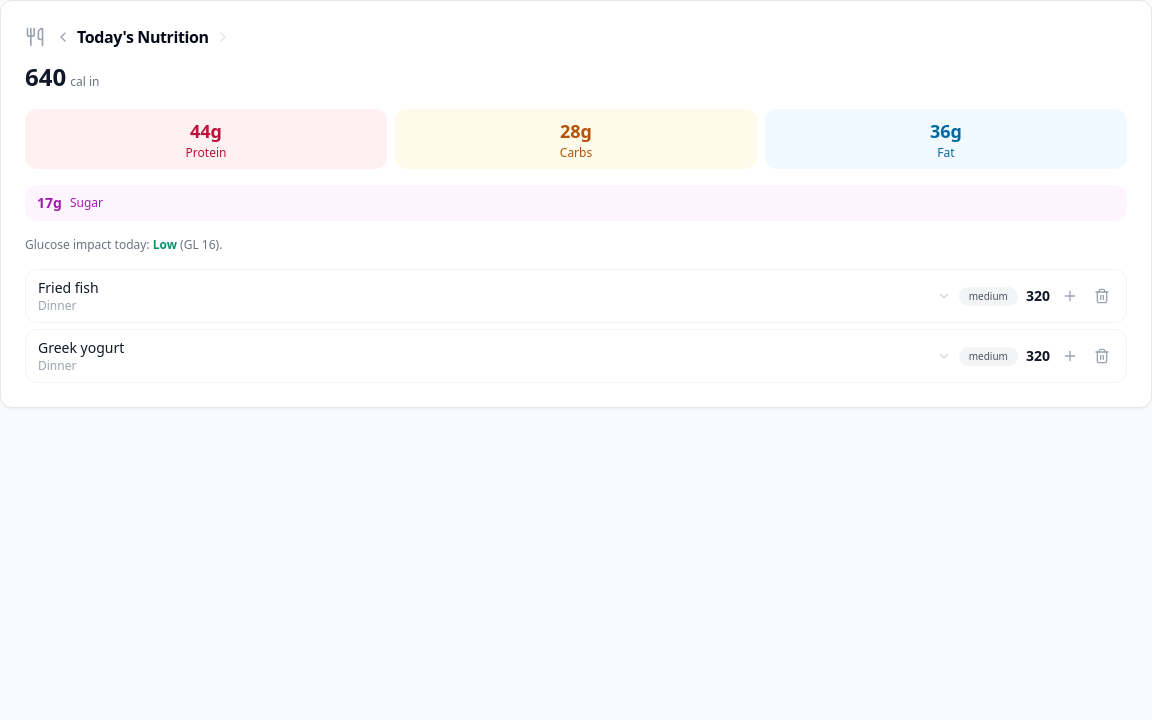
Test: NutritionCard — meal stats › keeps multiple meals expanded at the same time
The width and height of the screenshot is (1152, 720).
Check: the text "Greek yogurt" is shown, box left=38, top=338, right=124, bottom=357
Click the button with aria-label "show stats for fried fish" at (68, 288), box left=38, top=278, right=951, bottom=314
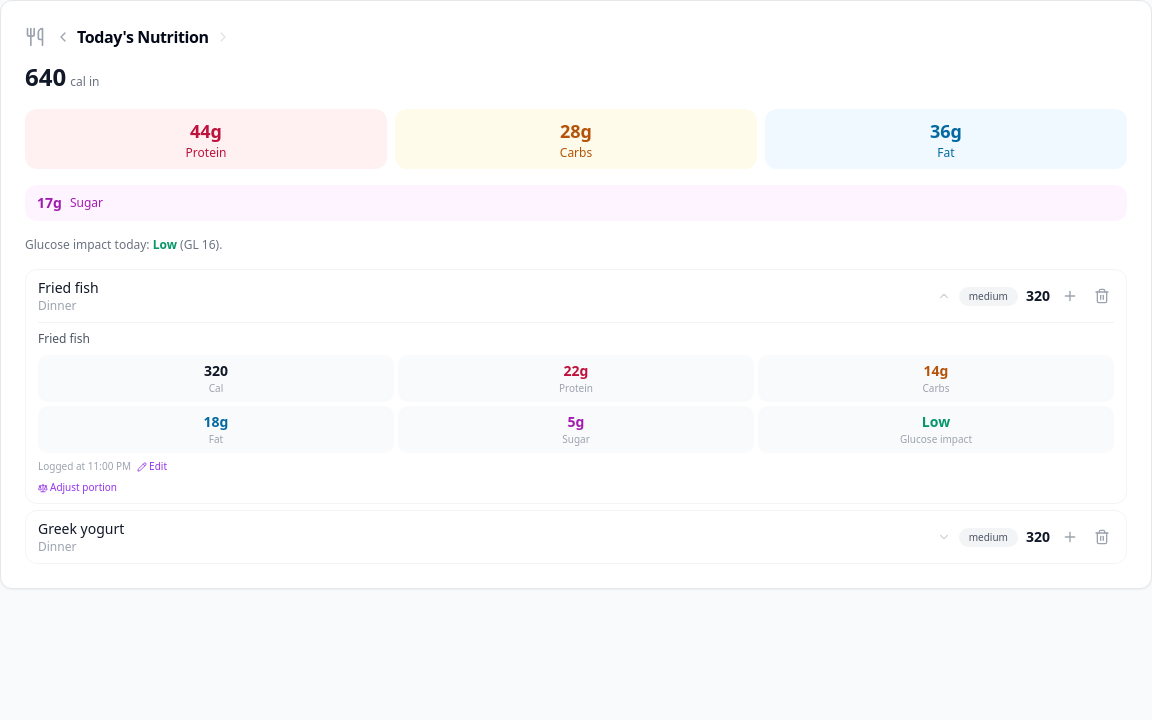
Click the button with aria-label "show stats for greek yogurt" at (81, 528), box left=38, top=519, right=951, bottom=555
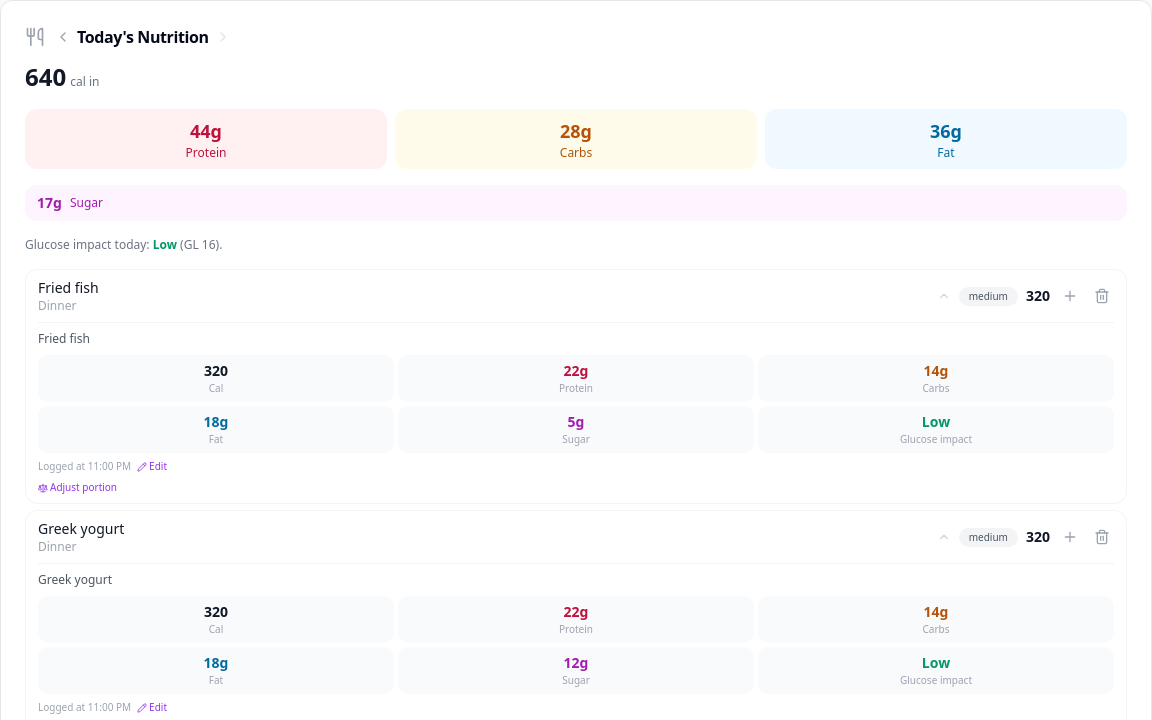
Check: the text "Logged at 11:00 PM" is shown 2 times, box left=38, top=459, right=131, bottom=474; left=38, top=700, right=131, bottom=715
